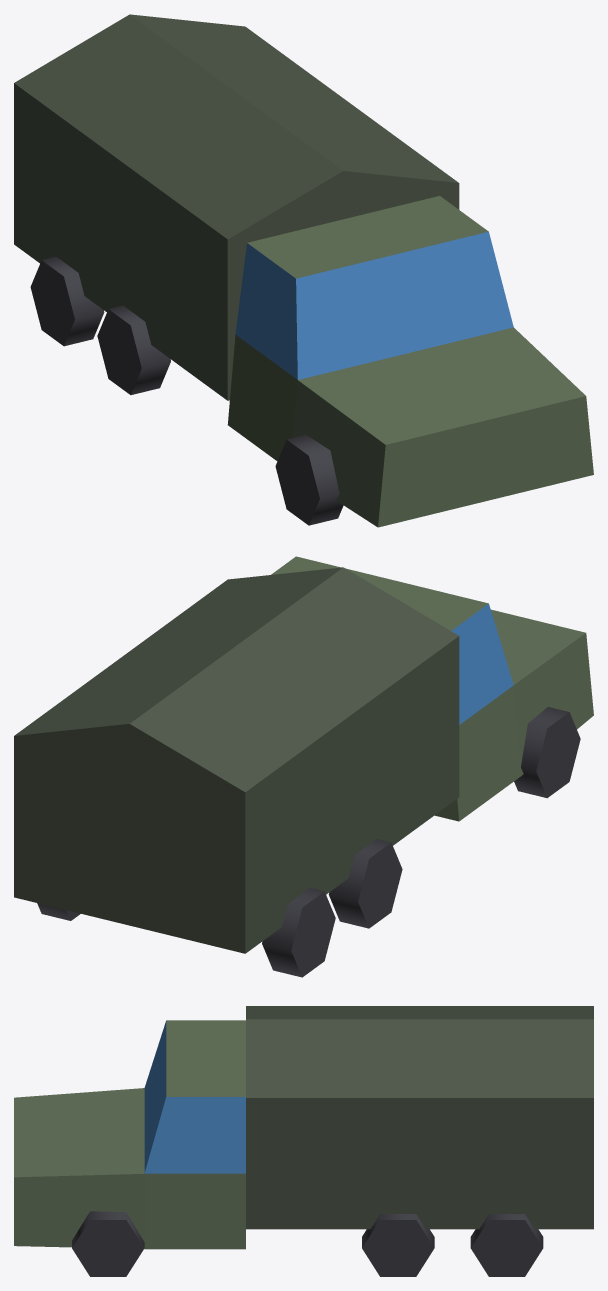
Rendered from Kit_Truck.glb.
The picture shows the model from 3 angles, top to bottom: view 1: azimuth 30°, elevation 25°; view 2: azimuth 150°, elevation 25°; view 3: azimuth 270°, elevation 25°; orthographic projection. The views are drawn at different scales.
Visible parts, largest first — view 1: Kit_Truck; view 2: Kit_Truck; view 3: Kit_Truck.
Part boxes in pixels (bbox=[...]): Kit_Truck: bbox=[14, 14, 593, 527]; Kit_Truck: bbox=[14, 556, 593, 977]; Kit_Truck: bbox=[14, 1006, 593, 1276].
Bounding box in the file's own units: 3.38 × 3.13 × 8.
